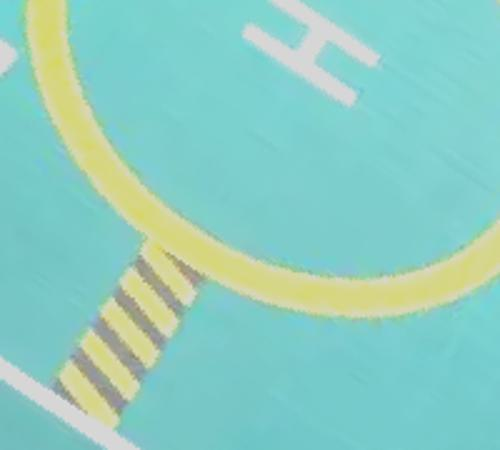Apron: (22, 1, 499, 322)
